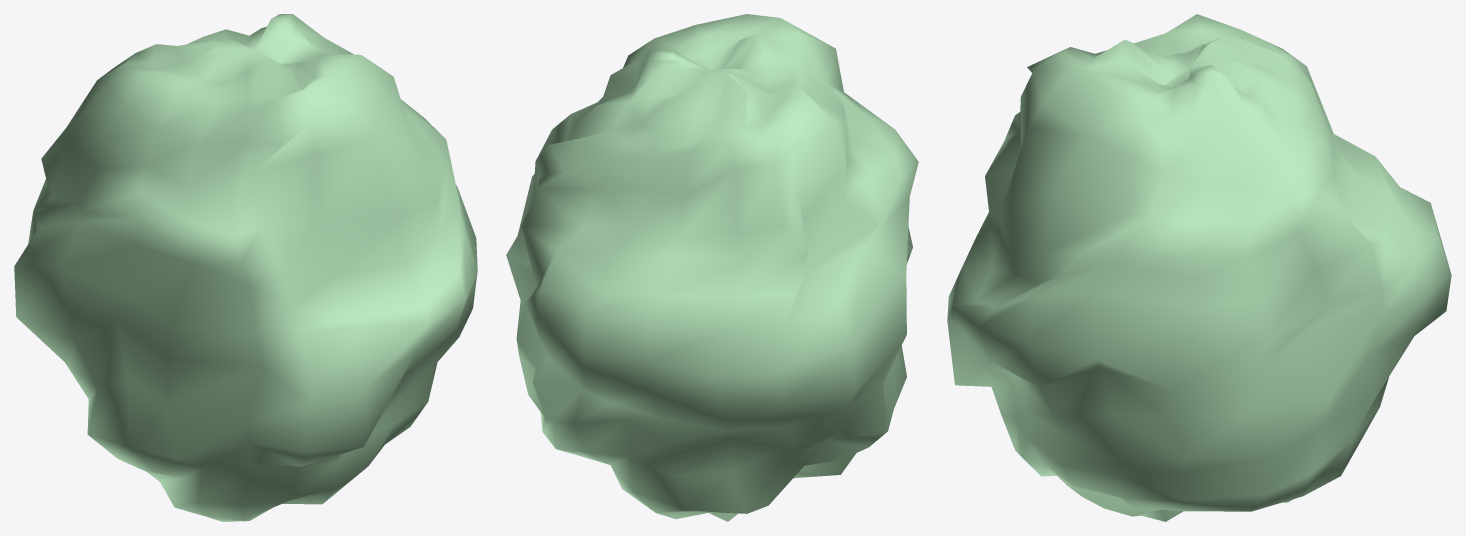
File: Trash.fbx
3 renders of one model, left to right at view 1: azimuth 30°, elevation 25°; view 2: azimuth 150°, elevation 25°; view 3: azimuth 270°, elevation 25°, orthographic. The views are drawn at different scales.
Visible parts, largest first — view 1: TRASH; view 2: TRASH; view 3: TRASH.
Boxes of the visible parts, x1,y1,x2,y2 form: TRASH: [14, 14, 477, 521]; TRASH: [506, 14, 918, 521]; TRASH: [947, 14, 1451, 521].
Size of the model in its own units: 0.0977 by 0.1135 by 0.111.
